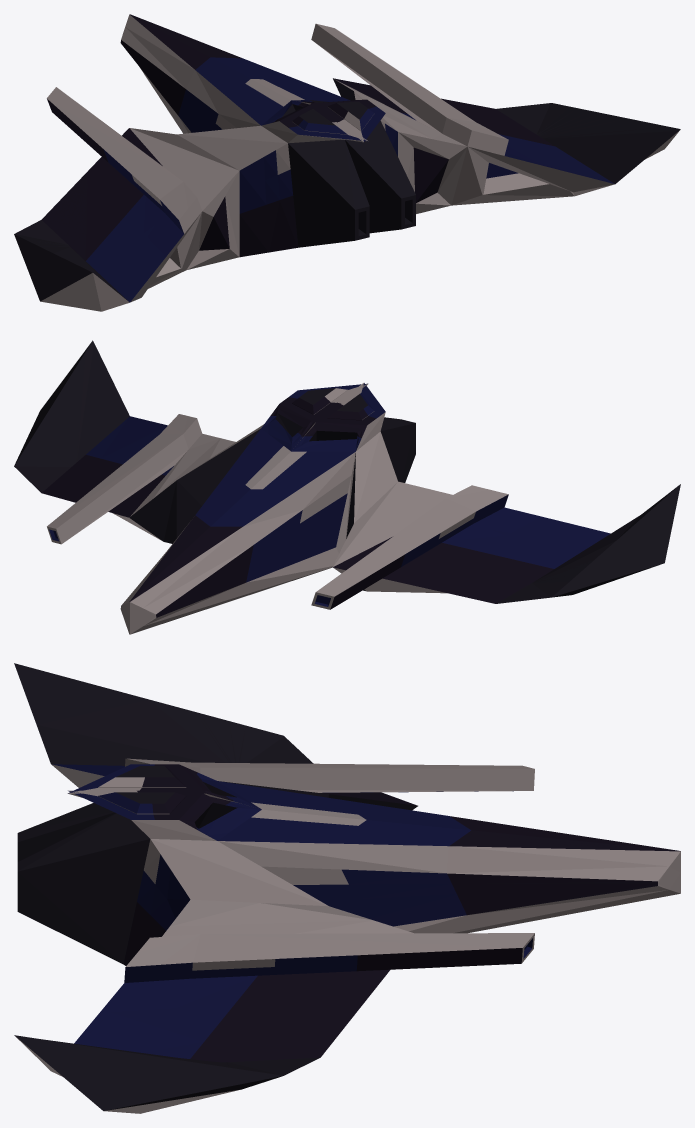
The model's file is lab3.obj.
3 renders of one model, top to bottom at view 1: azimuth 30°, elevation 25°; view 2: azimuth 150°, elevation 25°; view 3: azimuth 270°, elevation 25°, orthographic. The views are drawn at different scales.
Parts seen in each view (by area): view 1: Cube; view 2: Cube; view 3: Cube.
Boxes of the visible parts, bbox=[...] form: Cube: bbox=[14, 14, 680, 311]; Cube: bbox=[14, 340, 680, 634]; Cube: bbox=[14, 663, 680, 1113].
Bounding box in the file's own units: 13.49 × 2.86 × 9.63.
